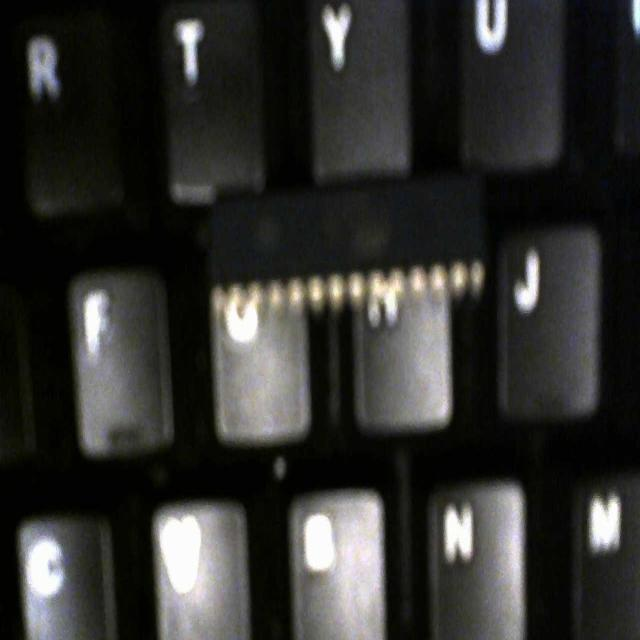atmega: (206, 175, 500, 316)
